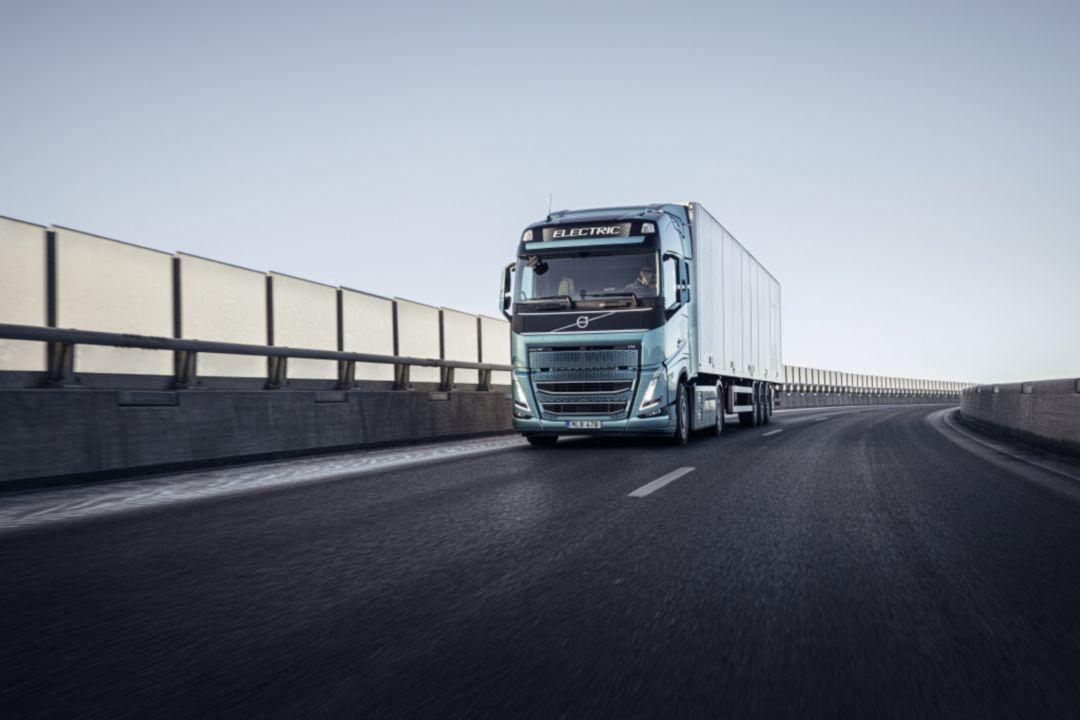truck: (499, 201, 781, 449)
